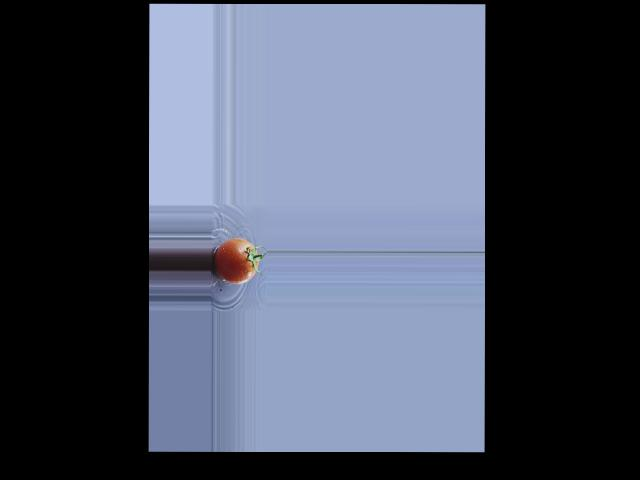tomato: (213, 238, 258, 283)
